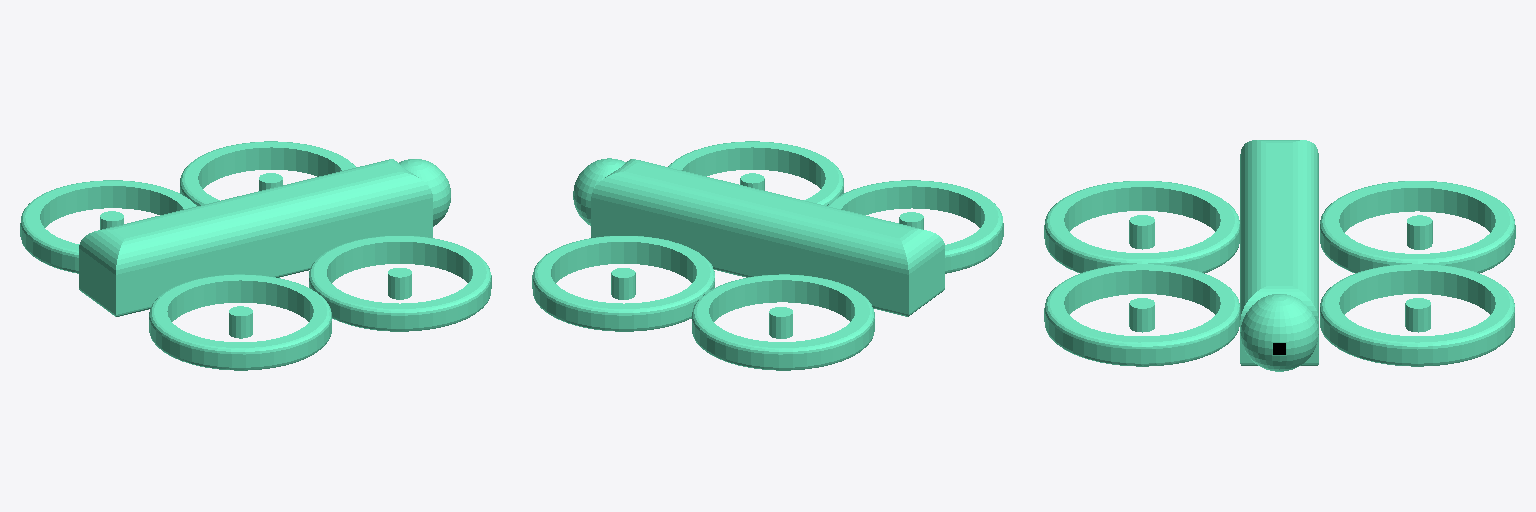
robot.urdf — simdrone:
<?xml version="1.0" ?>
<!-- =================================================================================== -->
<!-- |    This document was autogenerated by xacro from simdrone.xacro                 | -->
<!-- |    EDITING THIS FILE BY HAND IS NOT RECOMMENDED                                 | -->
<!-- =================================================================================== -->
<robot name="simdrone">
  <!-- Base Link with Mesh -->
  <link name="Root">
    <visual>
      <origin rpy="1.5708 0 0" xyz="0.075 -0.015 0.1"/>
      <geometry>
        <mesh filename="package://nitro_description/meshes/simdrone.stl" scale="0.001 0.001 0.001"/>
      </geometry>
      <material name="light_blue">
        <color rgba="0.498 1 0.831 1.0"/>
      </material>
    </visual>
    <inertial>
      <origin xyz="0 0 0"/>
      <mass value="0.6"/>
      <inertia ixx="0.002405" ixy="0.0" ixz="0.0" iyy="0.002405" iyz="0.0" izz="0.004"/>
    </inertial>
  </link>

  <joint name="Pan_joint" type="revolute">
    <parent link="Root"/>
    <child link="link_Pan"/>
    <axis xyz="0 0 1"/>
    <limit effort="30" lower="-1.047197" upper="1.047197" velocity="1.5"/>
    <origin xyz="0.075 0 0.115"/>
  </joint>
  <link name="link_Pan">
    <visual>
      <geometry>
        <sphere radius="0.015"/>
      </geometry>
      <material name="light_blue"/>
    </visual>
    <collision>
      <geometry>
        <sphere radius="0.015"/>
      </geometry>
      <material name="light_blue"/>
    </collision>
    <inertial>
      <origin xyz="0 0 0"/>
      <mass value="0.001"/>
      <inertia ixx="1e-6" ixy="0.0" ixz="0.0" iyy="1e-6" iyz="0.0" izz="1e-6"/>
    </inertial>
  </link>

  <joint name="Tilt_joint" type="revolute">
    <parent link="link_Pan"/>
    <child link="link_Tilt"/>
    <axis xyz="0 1 0"/>
    <limit effort="30" lower="-1.047197" upper="1.047197" velocity="1.5"/>
  </joint>
  <link name="link_Tilt">
    <visual>
      <geometry>
        <sphere radius="0.015"/>
      </geometry>
      <material name="light_blue"/>
    </visual>
    <collision>
      <geometry>
        <sphere radius="0.015"/>
      </geometry>
      <material name="light_blue"/>
    </collision>
    <inertial>
      <origin xyz="0 0 0"/>
      <mass value="0.001"/>
      <inertia ixx="1e-6" ixy="0.0" ixz="0.0" iyy="1e-6" iyz="0.0" izz="1e-6"/>
    </inertial>
  </link>




  <joint name="FrontCamera_joint" type="fixed">
    <parent link="link_Tilt"/>
    <child link="FrontCamera_link"/>
    <!--origin rpy="1.5708 -1.5708  0" xyz="0.015 0 0"/-->
    <origin xyz="0.015 0 0" rpy="0 1.5708  0"/>
  </joint>
  <link name="FrontCamera_link">
    <visual>
      <origin rpy="0 0 0" xyz="0 0 0"/>
      <geometry>
        <box size="0.005 0.005 0.0001"/>
      </geometry>
      <material name="black">
        <color rgba="0 0 0 1"/>
      </material>
    </visual>
  </link>
  <link name="FrontCamera"/>
  <joint name="FrontCamera_joint2" type="fixed">
    <parent link="FrontCamera_link"/>
    <child link="FrontCamera"/>
  </joint>

  <!-- RangeSensor (LIDAR) -->
  <joint name="range_sensor_joint1" type="fixed">
    <parent link="Root"/>
    <child link="RangeSensor"/>
    <origin xyz="0 0 0"/>
  </joint>
  <link name="RangeSensor"/>
  <!-- IMU -->
  <link name="imu_link"/>
  <joint name="imu_joint" type="fixed">
    <parent link="Root"/>
    <child link="imu_link"/>
  </joint>
  <link name="GyroSensor"/>
  <joint name="GyroSensor_joint" type="fixed">
    <parent link="imu_link"/>
    <child link="GyroSensor"/>
  </joint>
  <link name="AccSensor"/>
  <joint name="AccSensor_joint" type="fixed">
    <parent link="imu_link"/>
    <child link="AccSensor"/>
  </joint>
  <link name="FrontLight_link"/>
  <joint name="FrontLight_joint" type="fixed">
    <parent link="link_Tilt"/>
    <child link="FrontLight_link"/>
    <origin rpy="0 0 0" xyz="0.013 0 0.007"/>
  </joint>
  <link name="BackLight_link"/>
  <joint name="BackLight_joint" type="fixed">
    <parent link="Root"/>
    <child link="BackLight_link"/>
    <origin rpy="0 0 0" xyz="-0.075 0 0.115"/>
  </joint>
  <link name="LeftLight_link"/>
  <joint name="LeftLight_joint" type="fixed">
    <parent link="Root"/>
    <child link="LeftLight_link"/>
    <origin rpy="0 0 0" xyz="0 0.015 0.115"/>
  </joint>
  <link name="RightLight_link"/>
  <joint name="RightLight_joint" type="fixed">
    <parent link="Root"/>
    <child link="RightLight_link"/>
    <origin rpy="0 0 0" xyz="0 -0.015 0.115"/>
  </joint>
  <link name="UpLight_link"/>
  <joint name="UpLight_joint" type="fixed">
    <parent link="Root"/>
    <child link="UpLight_link"/>
    <origin rpy="0 0 0" xyz="0.05 0 0.13"/>
  </joint>
  <link name="DownLight_link"/>
  <joint name="DownLight_joint" type="fixed">
    <parent link="Root"/>
    <child link="DownLight_link"/>
    <origin rpy="0 0 0" xyz="0.05 0 0.1"/>
  </joint>
  <link name="ROTOR_RF"/>
  <joint name="ROTOR_RF_joint" type="fixed">
    <parent link="Root"/>
    <child link="ROTOR_RF"/>
    <origin rpy="0 0 0" xyz="0.037 -0.053 0.105"/>
  </joint>
  <link name="ROTOR_LF"/>
  <joint name="ROTOR_LF_joint" type="fixed">
    <parent link="Root"/>
    <child link="ROTOR_LF"/>
    <origin rpy="0 0 0" xyz="0.037 0.053 0.105"/>
  </joint>
  <link name="ROTOR_LR"/>
  <joint name="ROTOR_LR_joint" type="fixed">
    <parent link="Root"/>
    <child link="ROTOR_LR"/>
    <origin rpy="0 0 0" xyz="-0.037 0.053 0.105"/>
  </joint>
  <link name="ROTOR_RR"/>
  <joint name="ROTOR_RR_joint" type="fixed">
    <parent link="Root"/>
    <child link="ROTOR_RR"/>
    <origin rpy="0 0 0" xyz="-0.037 -0.053 0.105"/>
  </joint>
</robot>

--- Facts derived from the render (not from the file) ---
The picture shows the robot from 3 angles, left to right: view 1: azimuth 30°, elevation 25°; view 2: azimuth 150°, elevation 25°; view 3: azimuth 270°, elevation 25°; orthographic projection.
Robot: simdrone — 19 links, 18 joints (2 revolute, 16 fixed); root link Root; default pose: every joint at zero.
Visible links, largest first — view 1: Root, link_Pan; view 2: Root, link_Pan; view 3: Root, link_Pan.
Link boxes in pixels (<box>): Root: <box>20,141,491,370</box>; link_Pan: <box>399,159,450,226</box>; Root: <box>532,141,1003,370</box>; link_Pan: <box>573,158,625,225</box>; Root: <box>1044,140,1515,366</box>; link_Pan: <box>1240,294,1318,371</box>.
Bounding box of the posed robot: 0.1651 × 0.1803 × 0.03 m (x, y, z).
Meshes: 1 distinct files referenced, 1 mesh visuals loaded (1 binary STL).
